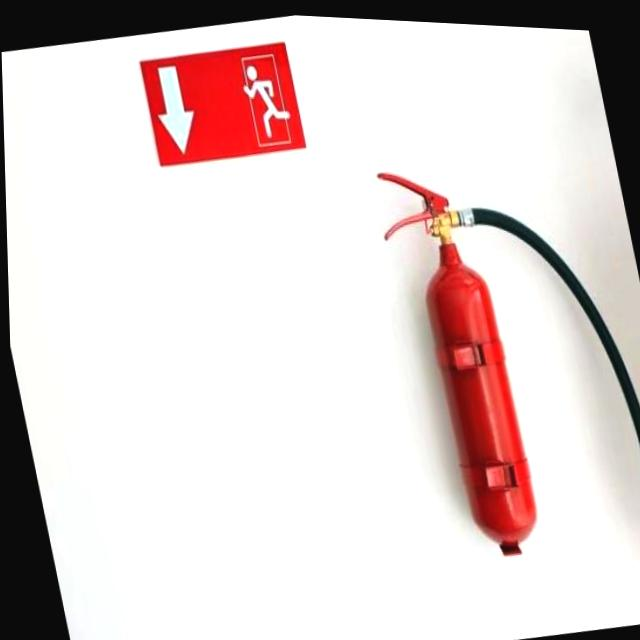FireExtinguisher: (366, 125, 640, 578)
